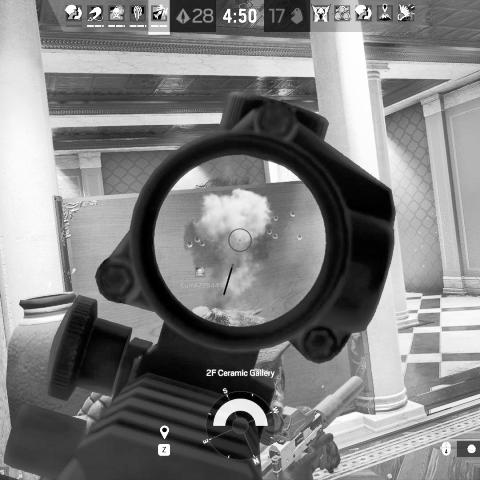Friend_label: (180, 264, 221, 290)
